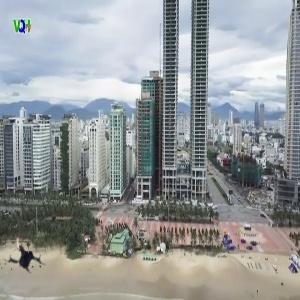drone: (2, 229, 53, 280)
